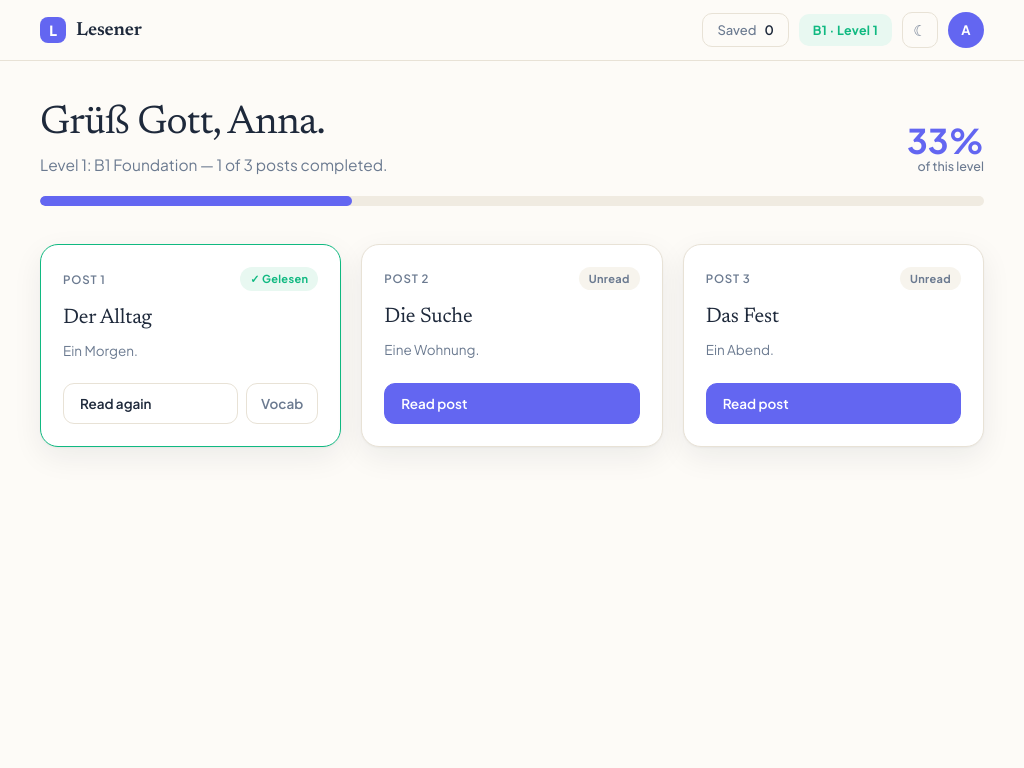
Test case: pressing Finish › does not double-count a post the reader had already finished
The width and height of the screenshot is (1024, 768).
Step 1. Click the button "Read again" → click(150, 403), box 63,383 -> 238,424
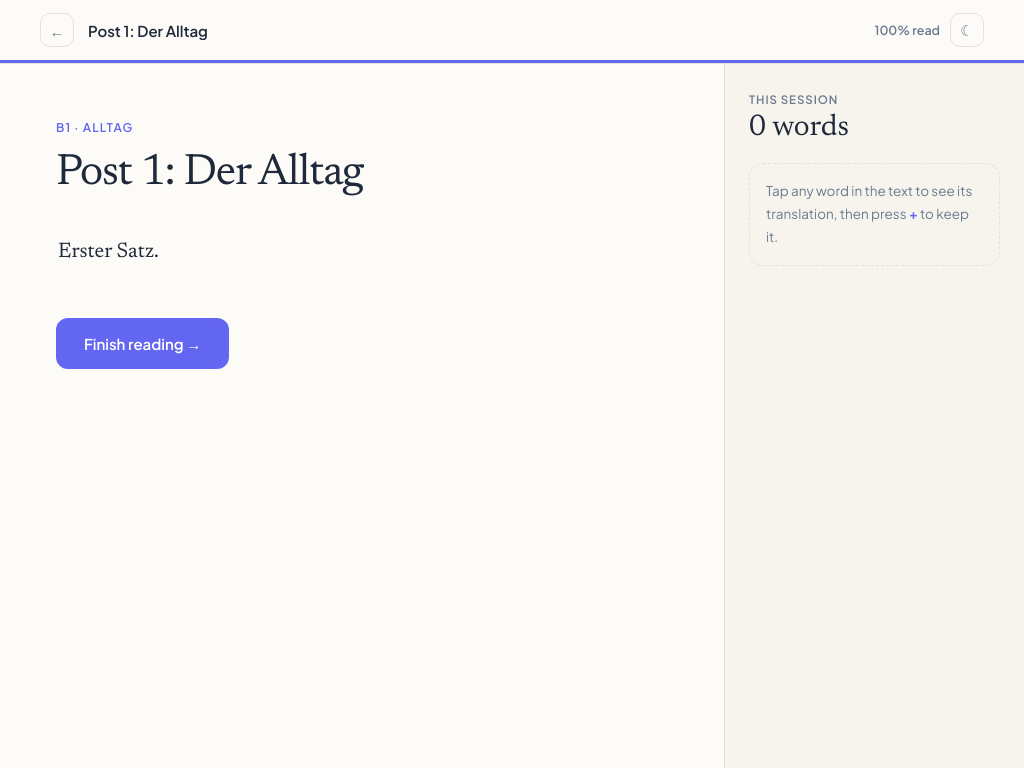
Step 2. Click the button "Finish reading →" → click(143, 344), box 56,318 -> 229,369
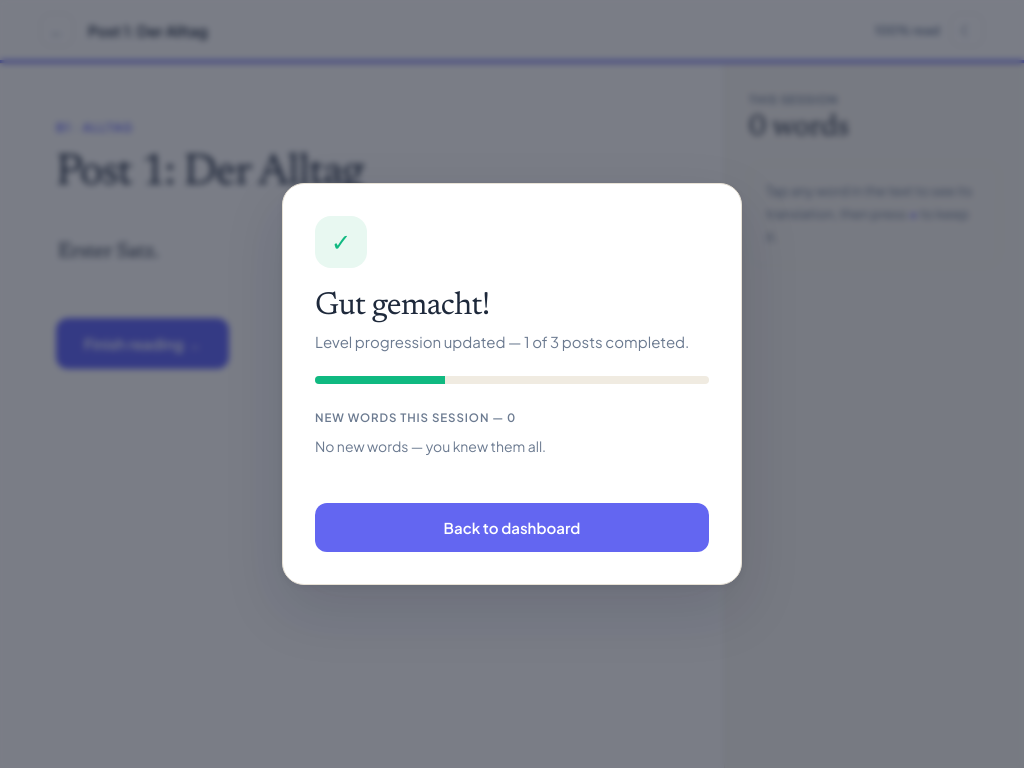
Step 3. Click the button "Back to dashboard" → click(512, 528), box 315,503 -> 709,552
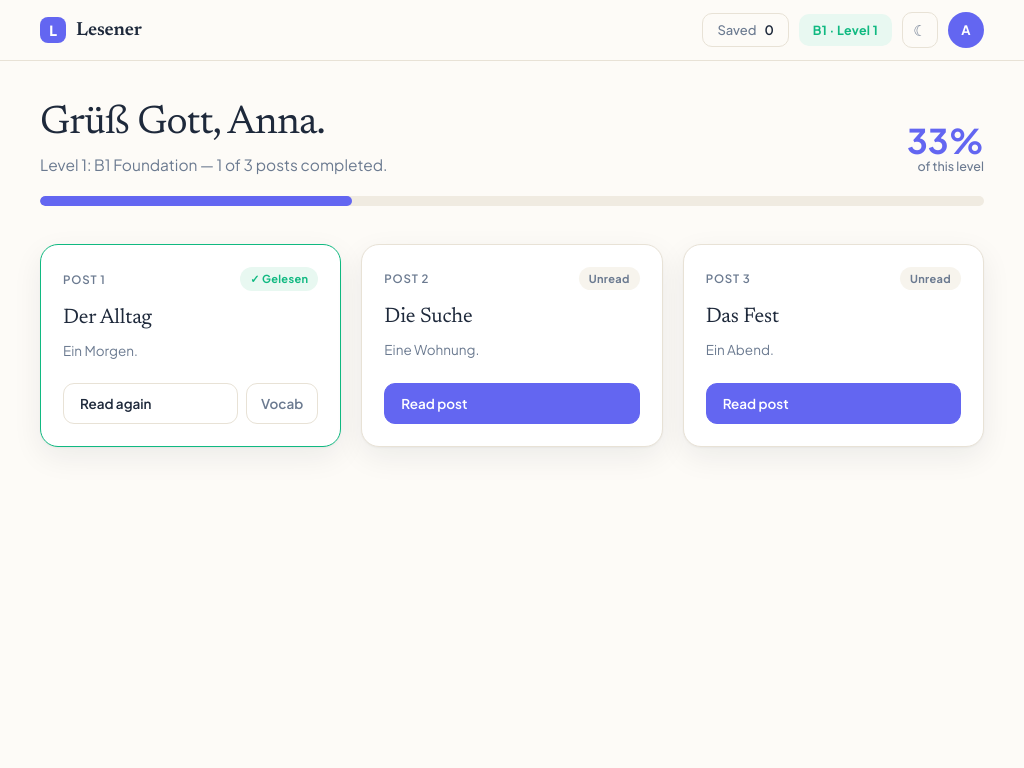
Check: the text "✓ Gelesen" is shown once, box 240,267 -> 318,291
Check: the text "Level 1: B1 Foundation — 1 of 3 posts completed." is shown, box 40,155 -> 388,174
